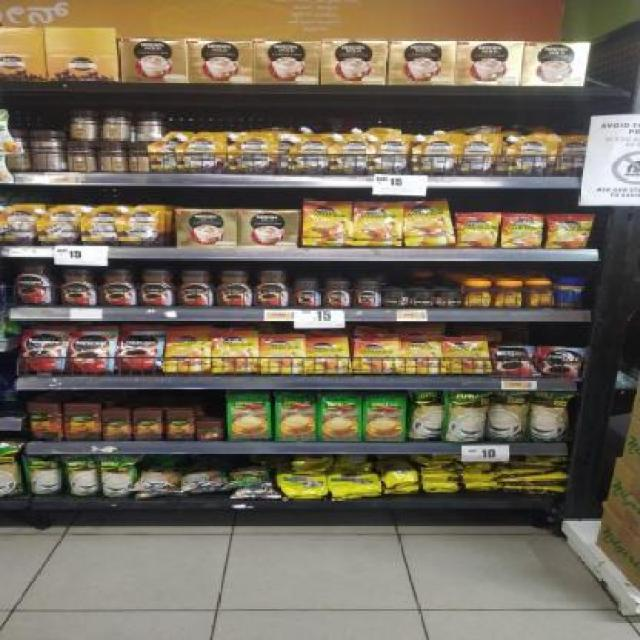Coffee: (163, 328, 212, 374), (210, 329, 259, 374), (304, 200, 350, 246), (355, 202, 402, 247), (406, 202, 451, 247), (11, 260, 55, 306), (22, 331, 64, 372), (71, 333, 114, 372), (260, 336, 306, 372), (306, 338, 351, 374), (120, 333, 160, 372), (444, 338, 488, 373), (398, 338, 440, 374), (546, 214, 588, 248), (501, 214, 542, 248), (353, 340, 396, 372), (457, 213, 495, 249), (60, 268, 96, 306), (539, 347, 581, 378), (100, 270, 137, 305), (217, 270, 251, 306), (493, 346, 533, 376), (177, 270, 211, 305), (139, 270, 172, 305), (255, 270, 287, 305), (527, 280, 556, 308), (324, 279, 350, 307), (355, 280, 380, 308), (464, 282, 490, 308), (495, 281, 520, 308), (295, 281, 320, 307), (439, 291, 464, 307), (411, 291, 435, 307), (384, 291, 407, 306)
